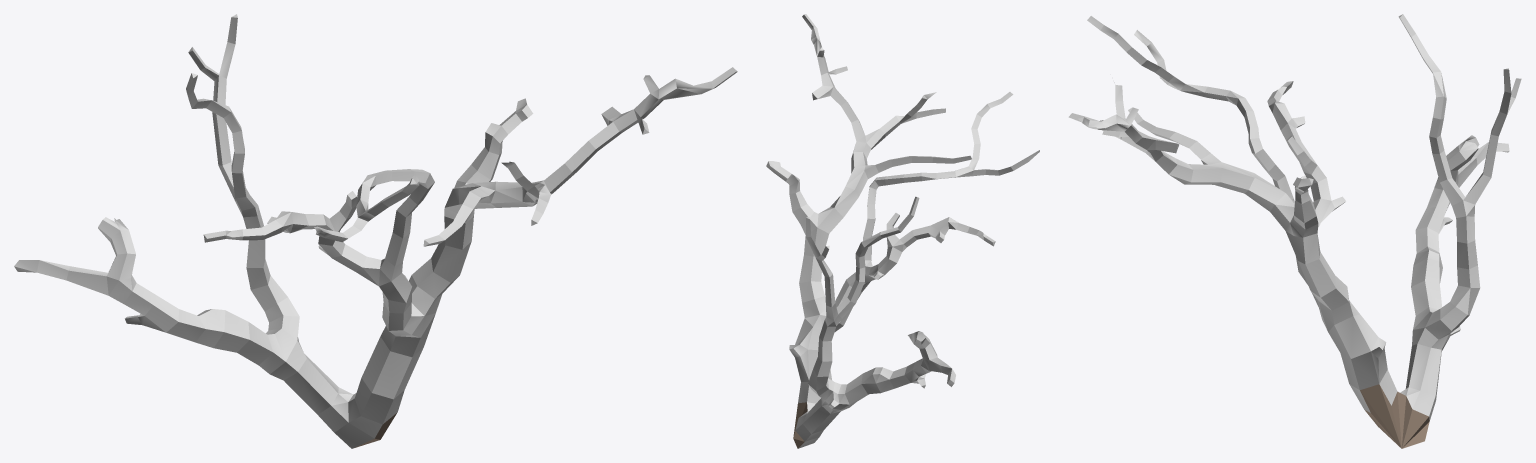
The model's file is fork.fbx.
3 views of the same model, side by side, from view 1: azimuth 30°, elevation 25°; view 2: azimuth 150°, elevation 25°; view 3: azimuth 270°, elevation 25° (orthographic). The views are drawn at different scales.
Parts seen in each view (by area): view 1: fork; view 2: fork; view 3: fork.
Part boxes in pixels (x1=…): fork: x1=14, y1=14, x2=737, y2=448; fork: x1=766, y1=14, x2=1039, y2=448; fork: x1=1068, y1=14, x2=1521, y2=448.
Size of the model in its own units: 375 by 357 by 350.
